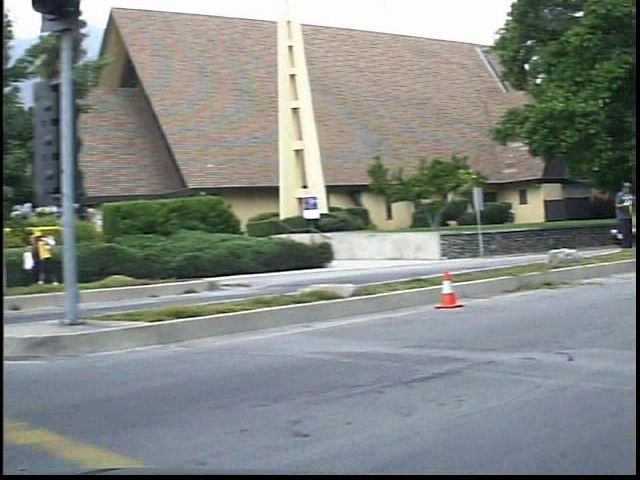person: (43, 225, 74, 289)
